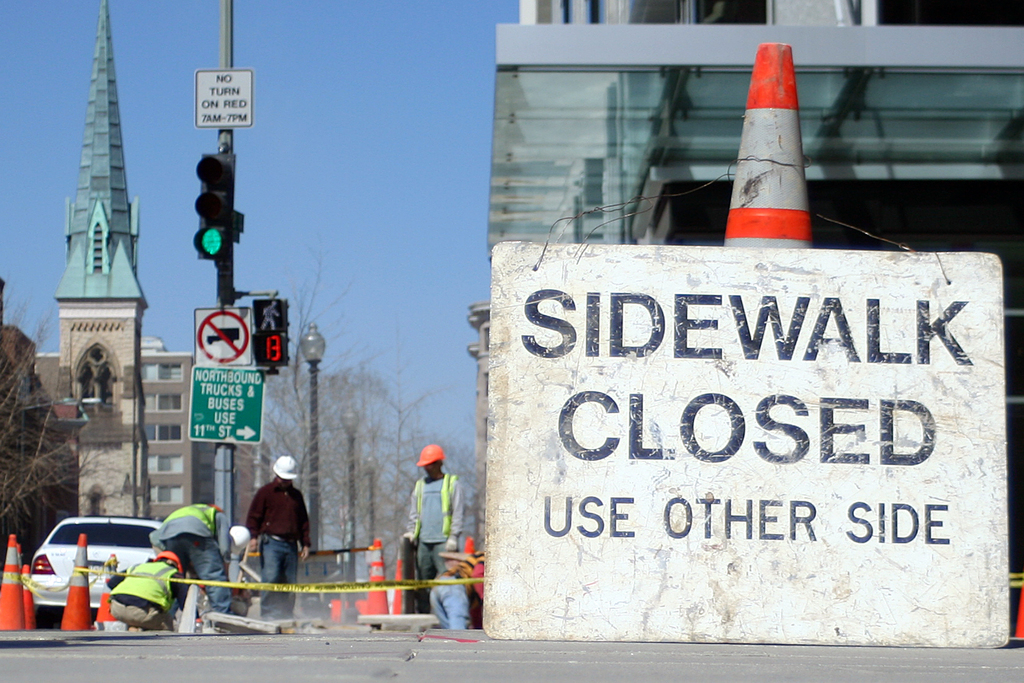green_light: (190, 223, 229, 261)
no_trucks: (193, 310, 253, 364)
pedestrian_crossing_ahead: (251, 299, 287, 331)
